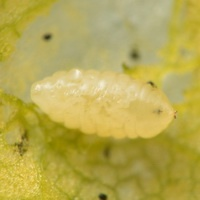insect: (31, 69, 174, 137)
